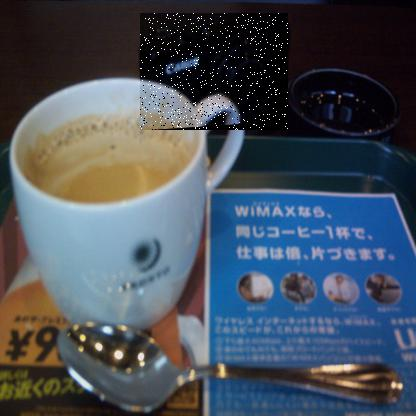Camera: (141, 14, 290, 132)
